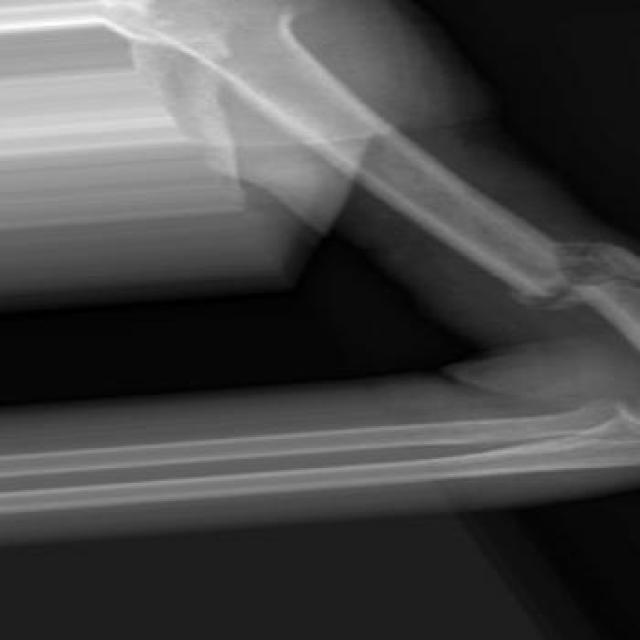Fracture: (502, 230, 639, 320)
